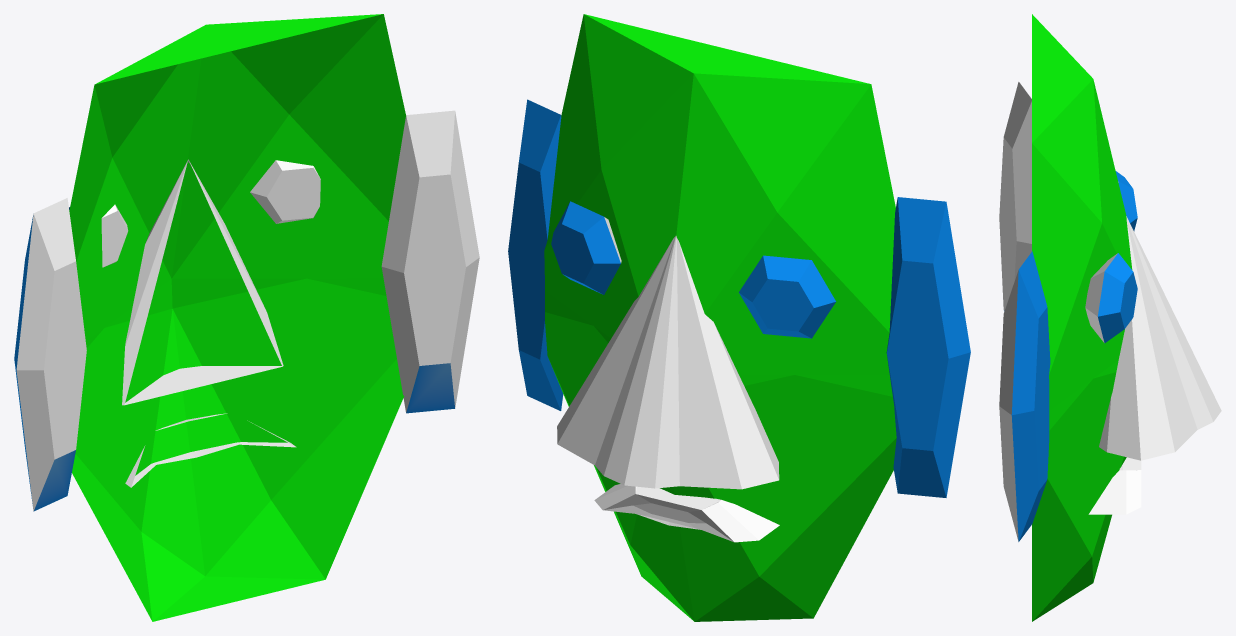
File: ThunderGreen.fbx
3 views of the same model, side by side, from view 1: azimuth 30°, elevation 25°; view 2: azimuth 150°, elevation 25°; view 3: azimuth 270°, elevation 25° (orthographic). The views are drawn at different scales.
Parts seen in each view (by area): view 1: Cube, Torus.001, Cone, Torus.004, Torus.002; view 2: Cube, Cone, Torus.001, Torus.004, Torus.002; view 3: Cube, Torus.001, Cone, Torus.004, Torus.002.
Boxes of the visible parts, <box> form: Cube: <box>69,14,406,621</box>; Torus.001: <box>14,110,479,511</box>; Cone: <box>122,159,283,405</box>; Torus.004: <box>69,160,320,267</box>; Torus.002: <box>125,413,296,487</box>; Cube: <box>544,14,896,621</box>; Cone: <box>557,236,779,489</box>; Torus.001: <box>508,99,970,497</box>; Torus.004: <box>551,201,836,338</box>; Torus.002: <box>594,484,779,542</box>; Cube: <box>1032,14,1132,621</box>; Torus.001: <box>999,82,1050,541</box>; Cone: <box>1099,216,1221,460</box>; Torus.004: <box>1085,171,1137,343</box>; Torus.002: <box>1088,457,1141,514</box>.
Size of the model in its own units: 798 by 908 by 363.
